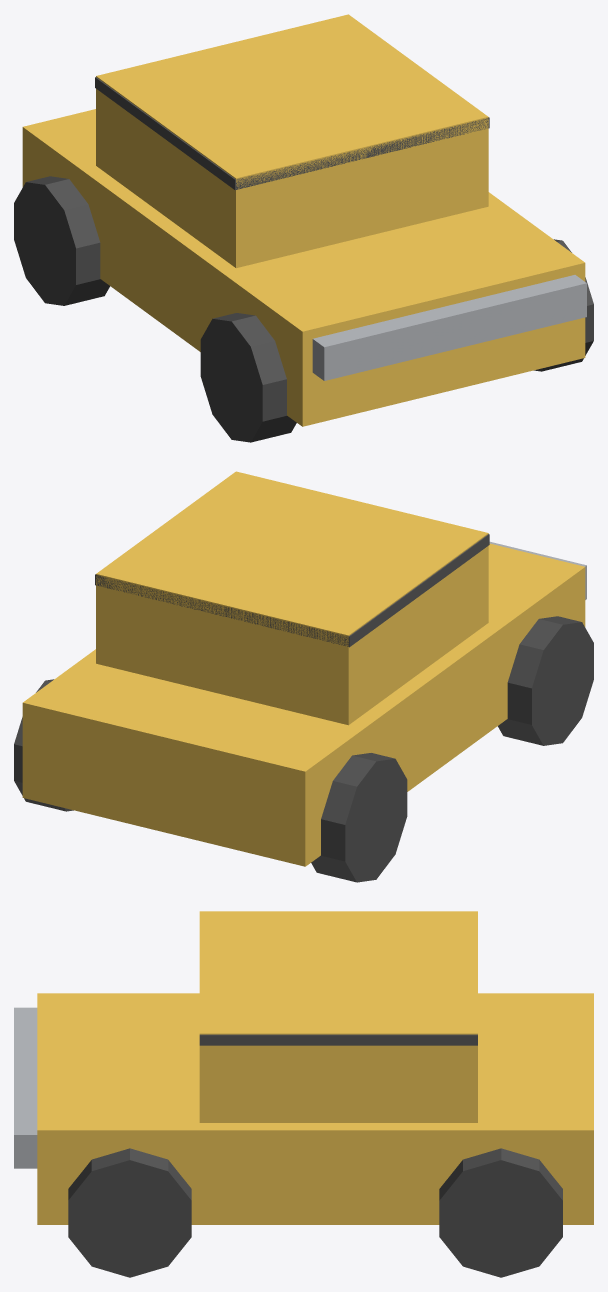
Rendered from parked_taxi.glb.
3 renders of one model, top to bottom at view 1: azimuth 30°, elevation 25°; view 2: azimuth 150°, elevation 25°; view 3: azimuth 270°, elevation 25°, orthographic.
Visible parts, largest first — view 1: parked_taxi; view 2: parked_taxi; view 3: parked_taxi.
Part boxes in pixels (<box>): parked_taxi: <box>14,14,593,442</box>; parked_taxi: <box>14,471,593,882</box>; parked_taxi: <box>14,911,593,1277</box>.
Size of the model in its own units: 1.64 by 1.07 by 2.5.
